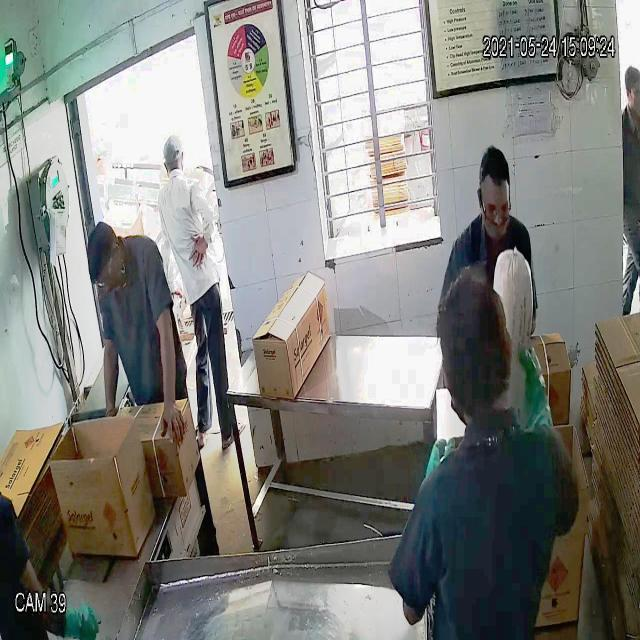glasses: (476, 192, 514, 226)
